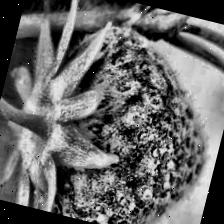Powdery Mildew Fruit: (10, 8, 224, 224)
